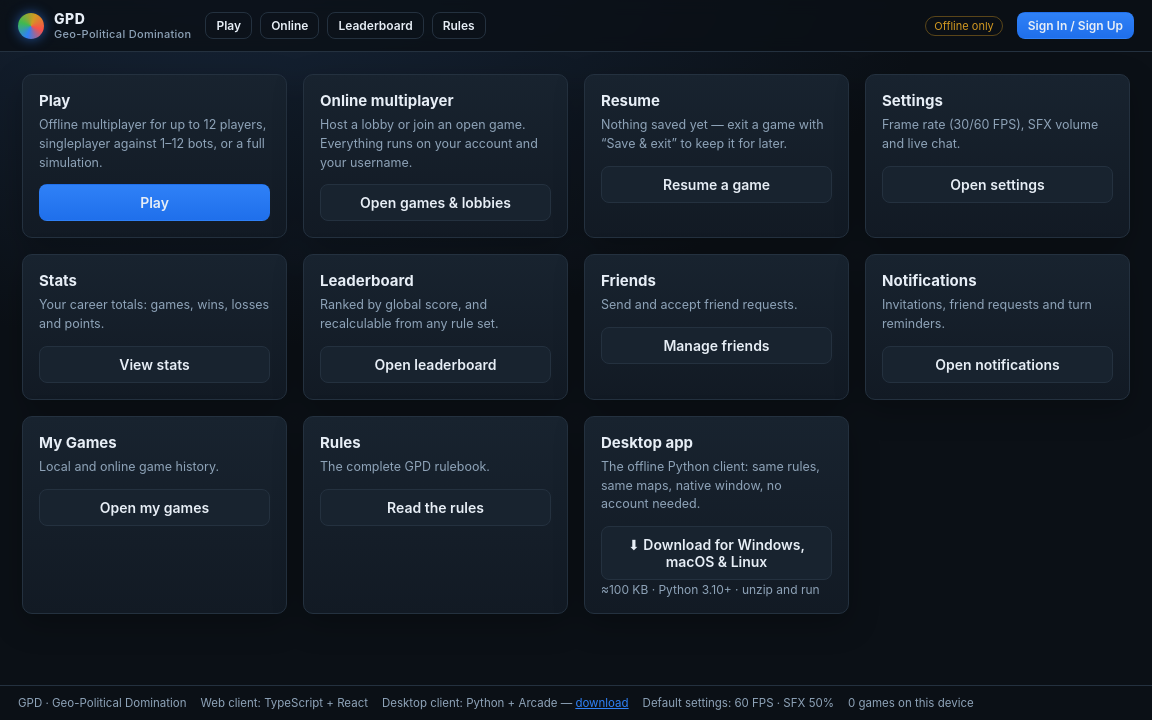
Test: web client › runs an offline simulation to completion
This screenshot has width=1152, height=720.
Click the button "Play" in the row of "Offline only": (229, 26) 206,12 -> 252,39
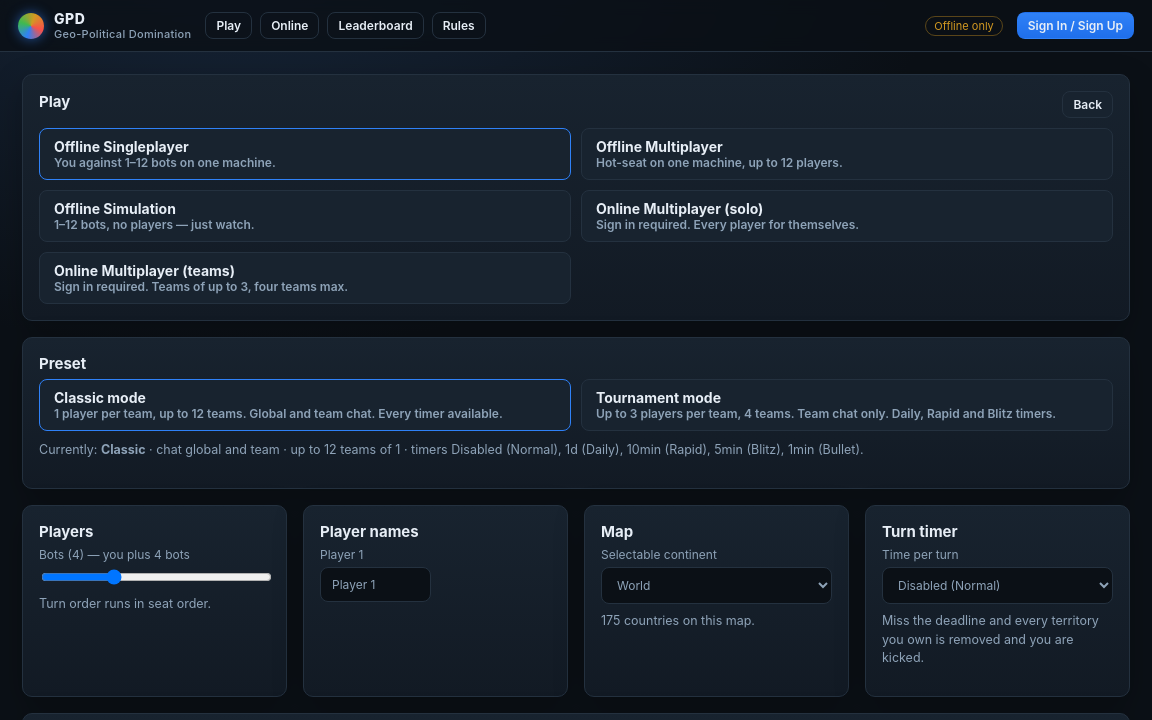
Click the text "Offline Simulation": (115, 208) 54,200 -> 176,217
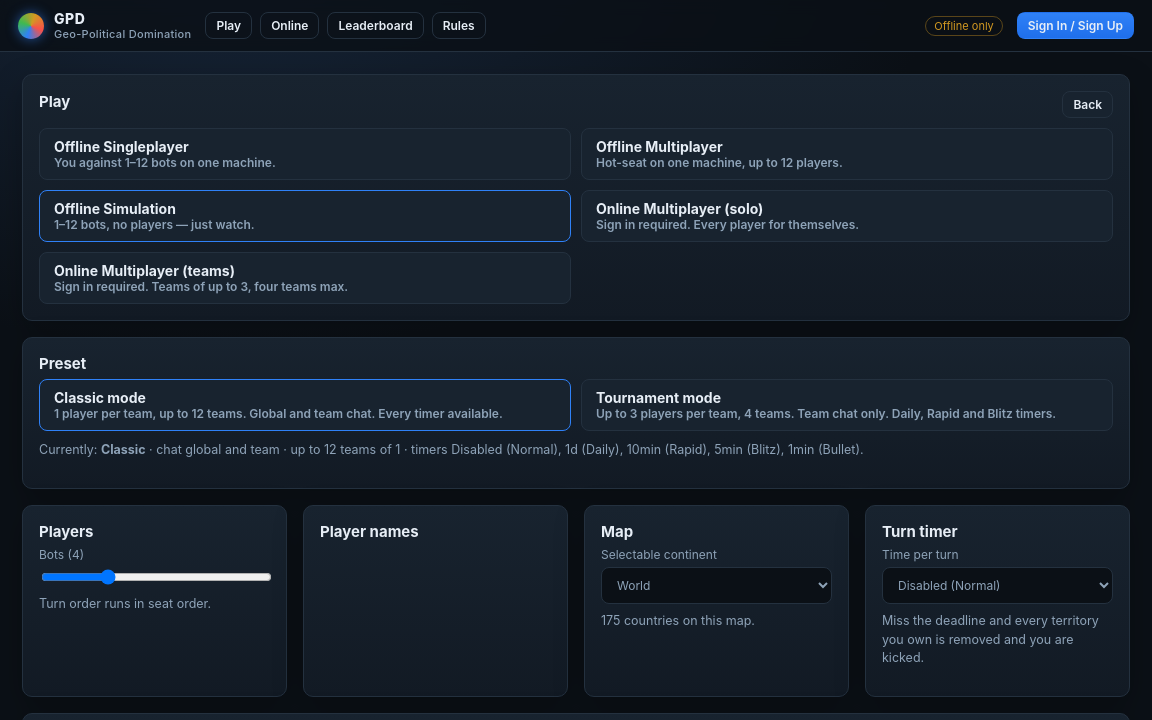
a small map keeps the simulated game short
Select "Oceania" in the dropdown labelled "Selectable continent": (716, 585) 601,567 -> 832,604
(page scrolled)
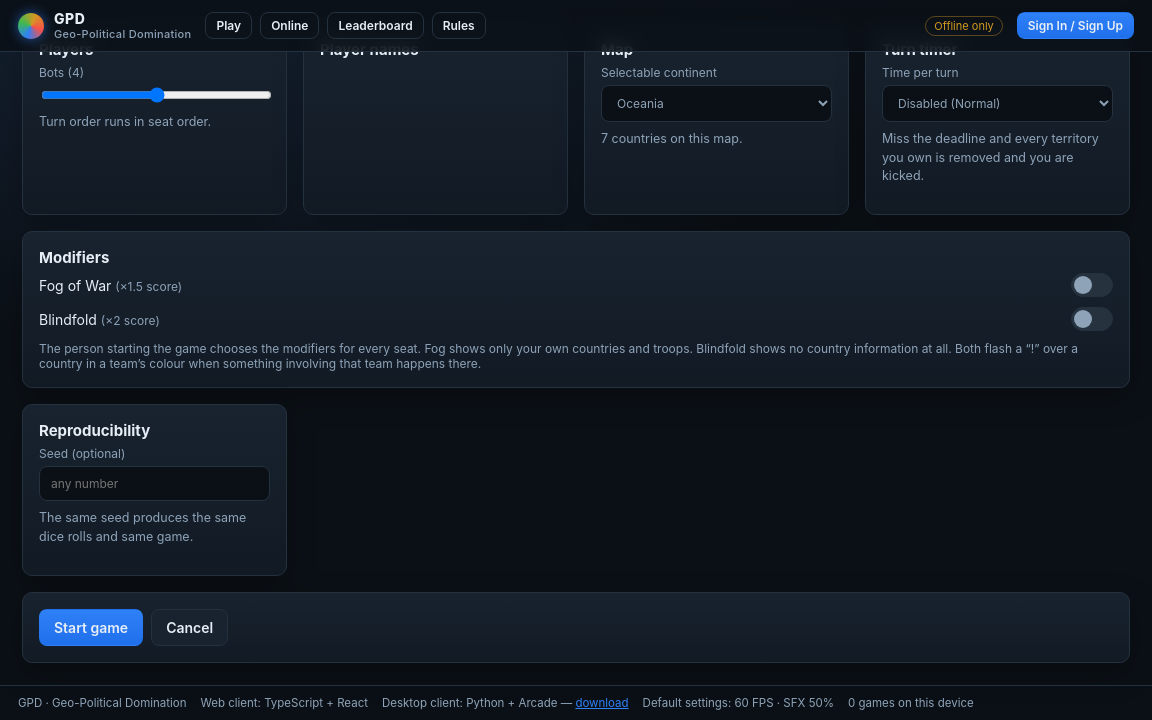
Click the button "Start game": (91, 627) 39,608 -> 143,646
Wait 2000 ms
(page scrolled)
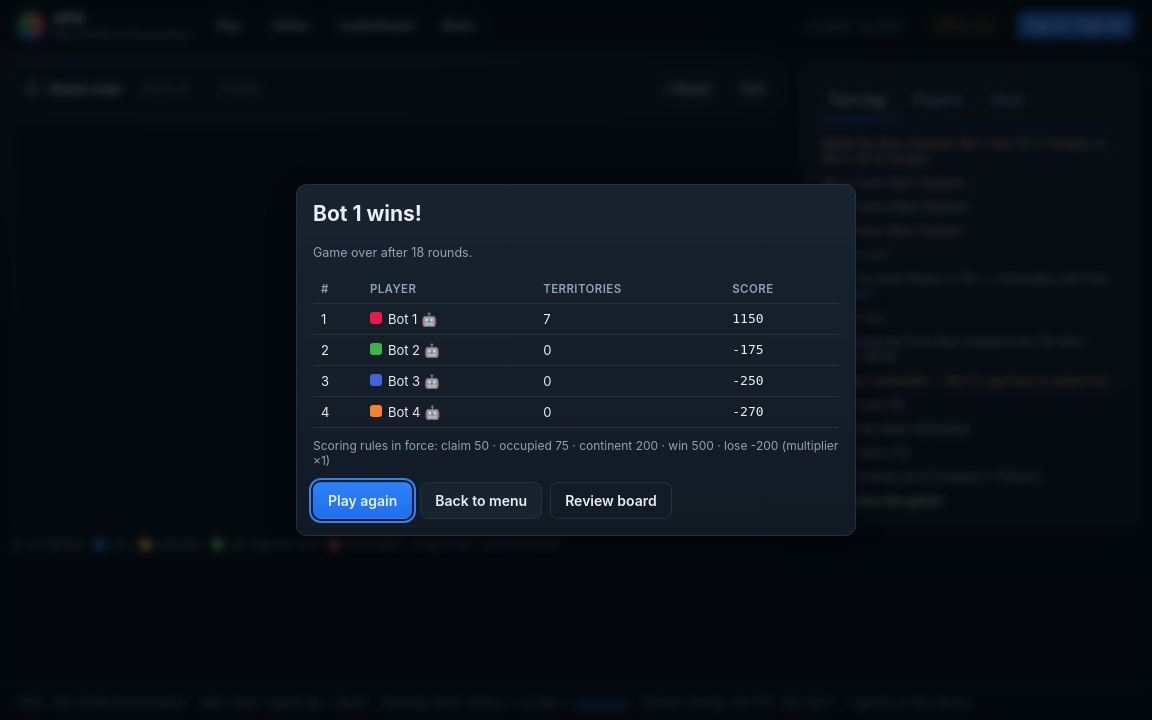
Expected: the element with class "modal-backdrop" is shown
Expected: the heading "Bot 1 wins!" is shown, 313,201 -> 422,226
Expected: the button "Play again" is shown, 313,482 -> 412,519
the finished game was recorded locally and shows up in Stats
Click the button "Back to menu": (481, 500) 420,482 -> 542,519
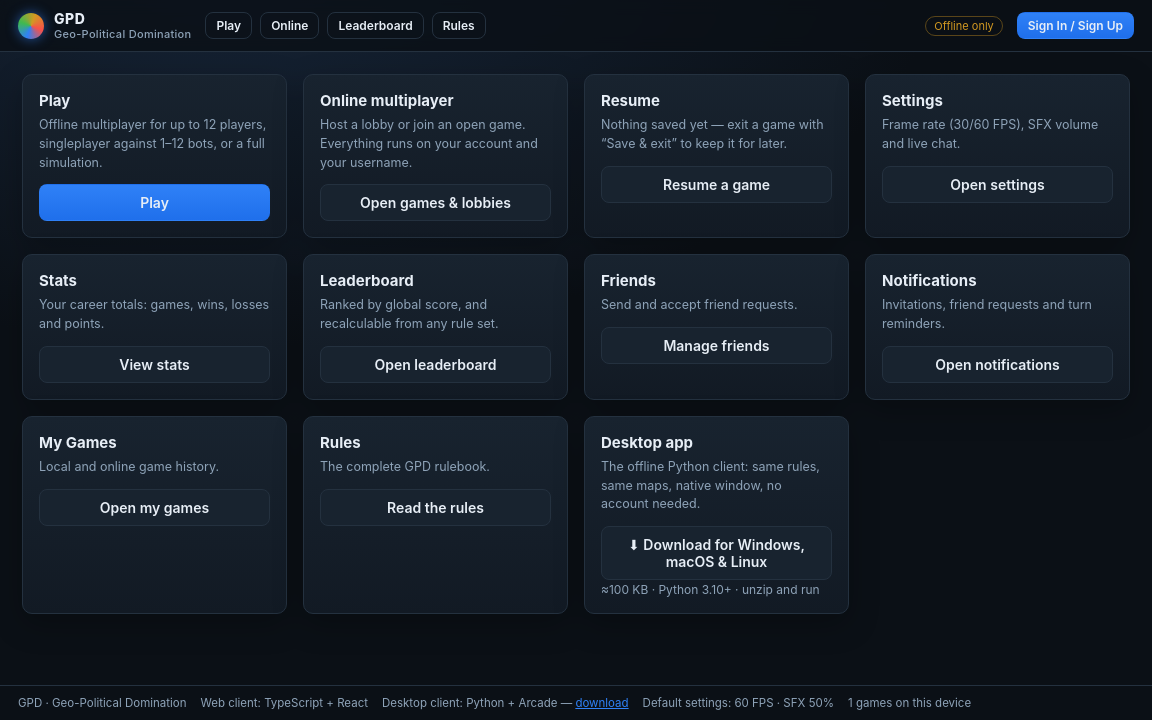
Click the button "View stats": (154, 364) 39,346 -> 270,383
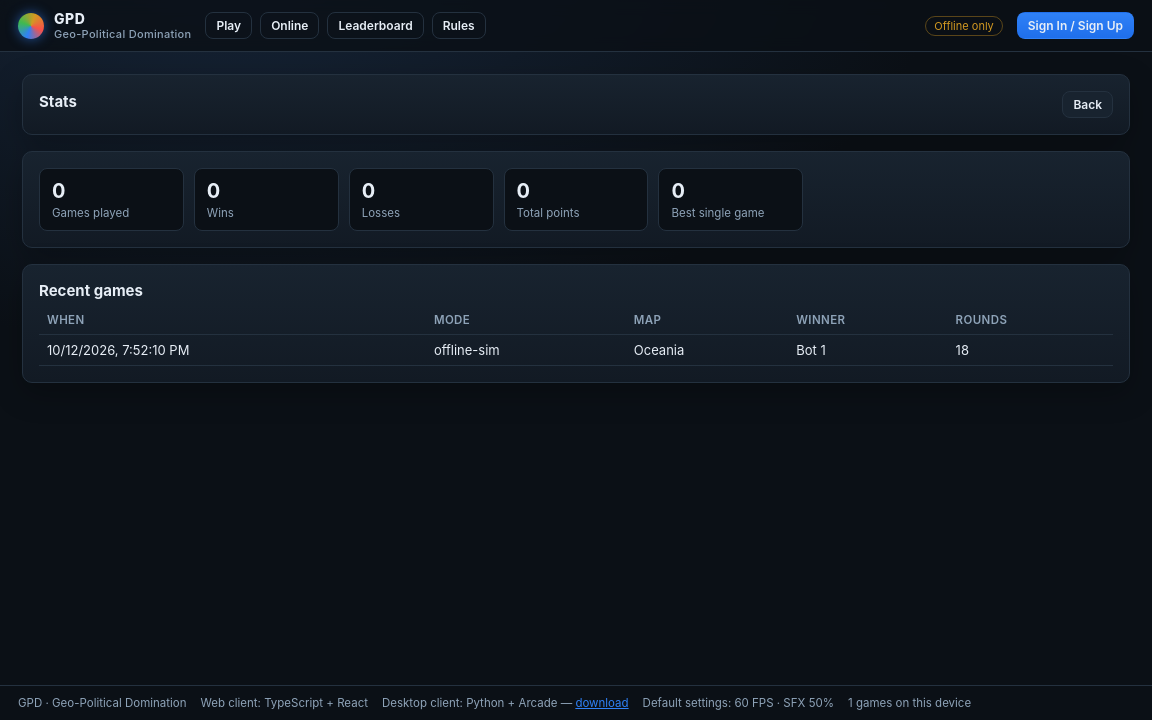
Expected: the text "Games played" is shown, 52,206 -> 129,220
